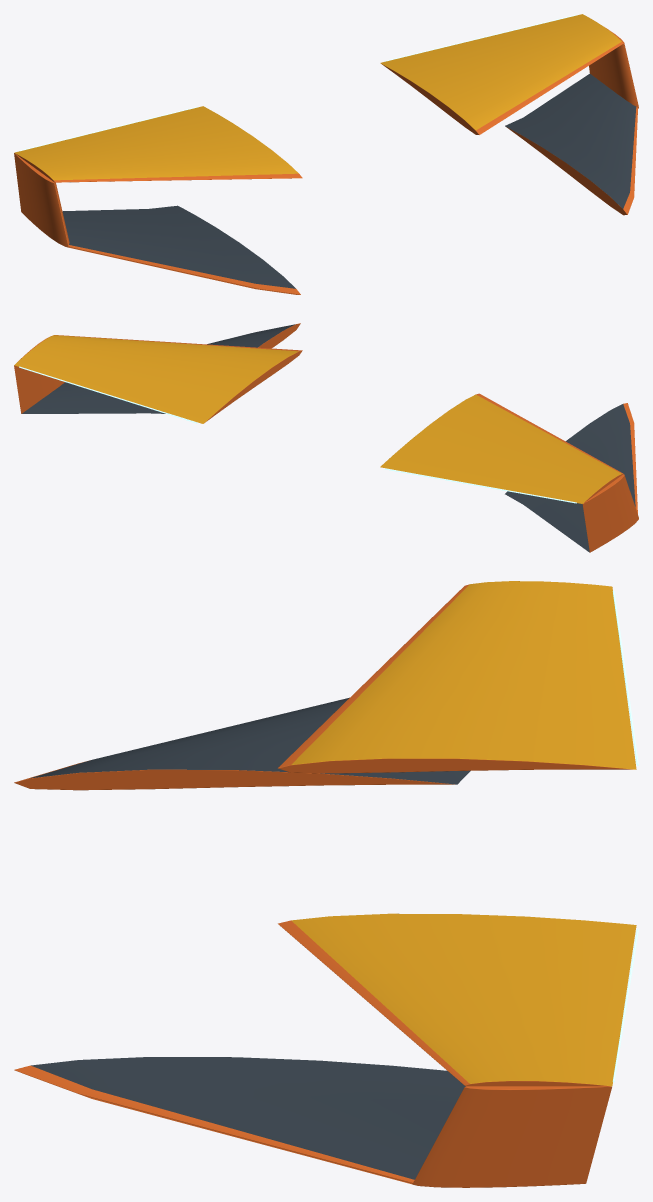
Rendered from bastion_wing_lg.fbx.
3 views of the same model, one above another, from view 1: azimuth 30°, elevation 25°; view 2: azimuth 150°, elevation 25°; view 3: azimuth 270°, elevation 25° (orthographic). The views are drawn at different scales.
Parts seen in each view (by area): view 1: Wing_Box_L, Wing_Box_R; view 2: Wing_Box_L, Wing_Box_R; view 3: Wing_Box_R, Wing_Box_L.
Boxes of the visible parts, x1,y1,x2,y2 form: Wing_Box_L: (14,106,302,294); Wing_Box_R: (380,14,638,215); Wing_Box_L: (380,393,638,552); Wing_Box_R: (14,323,302,423); Wing_Box_R: (14,913,638,1187); Wing_Box_L: (14,581,638,790).
Bounding box in the file's own units: 418 × 40.64 × 217.
